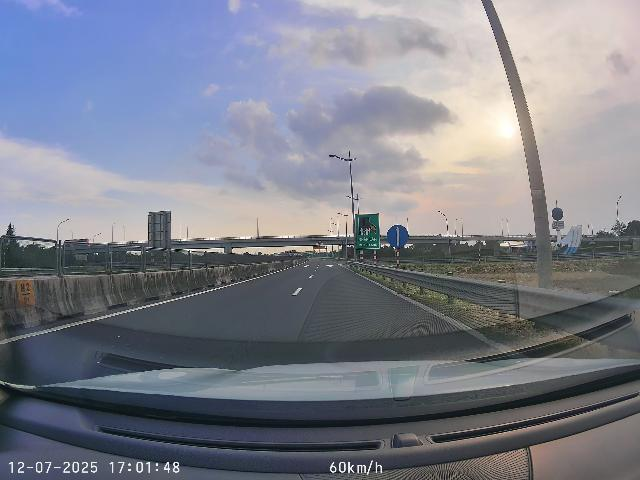301a-cac-xe-chi-duoc-di-thang: (386, 224, 409, 248)
